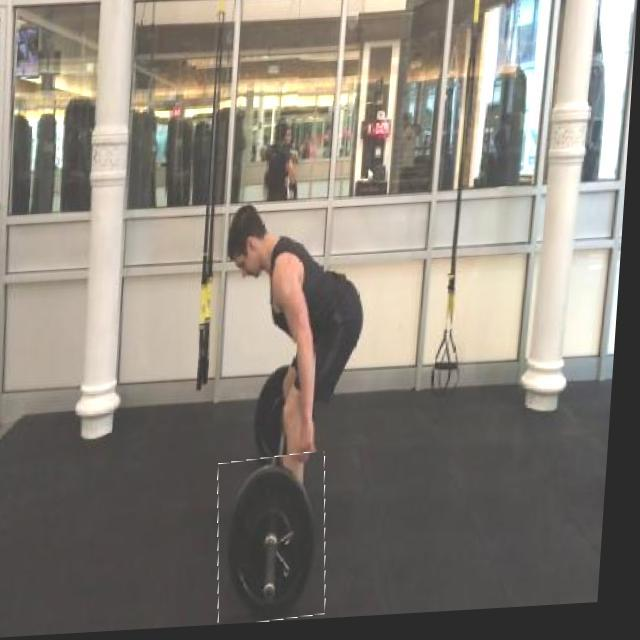barbell: (220, 457, 340, 629)
